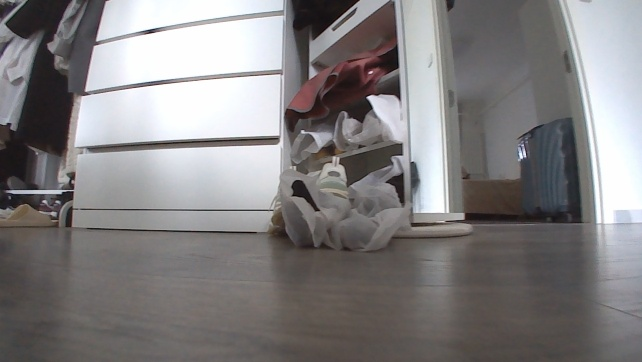bed1: (461, 176, 526, 220)
cabinet: (64, 0, 316, 239)
slipper: (0, 200, 59, 230)
